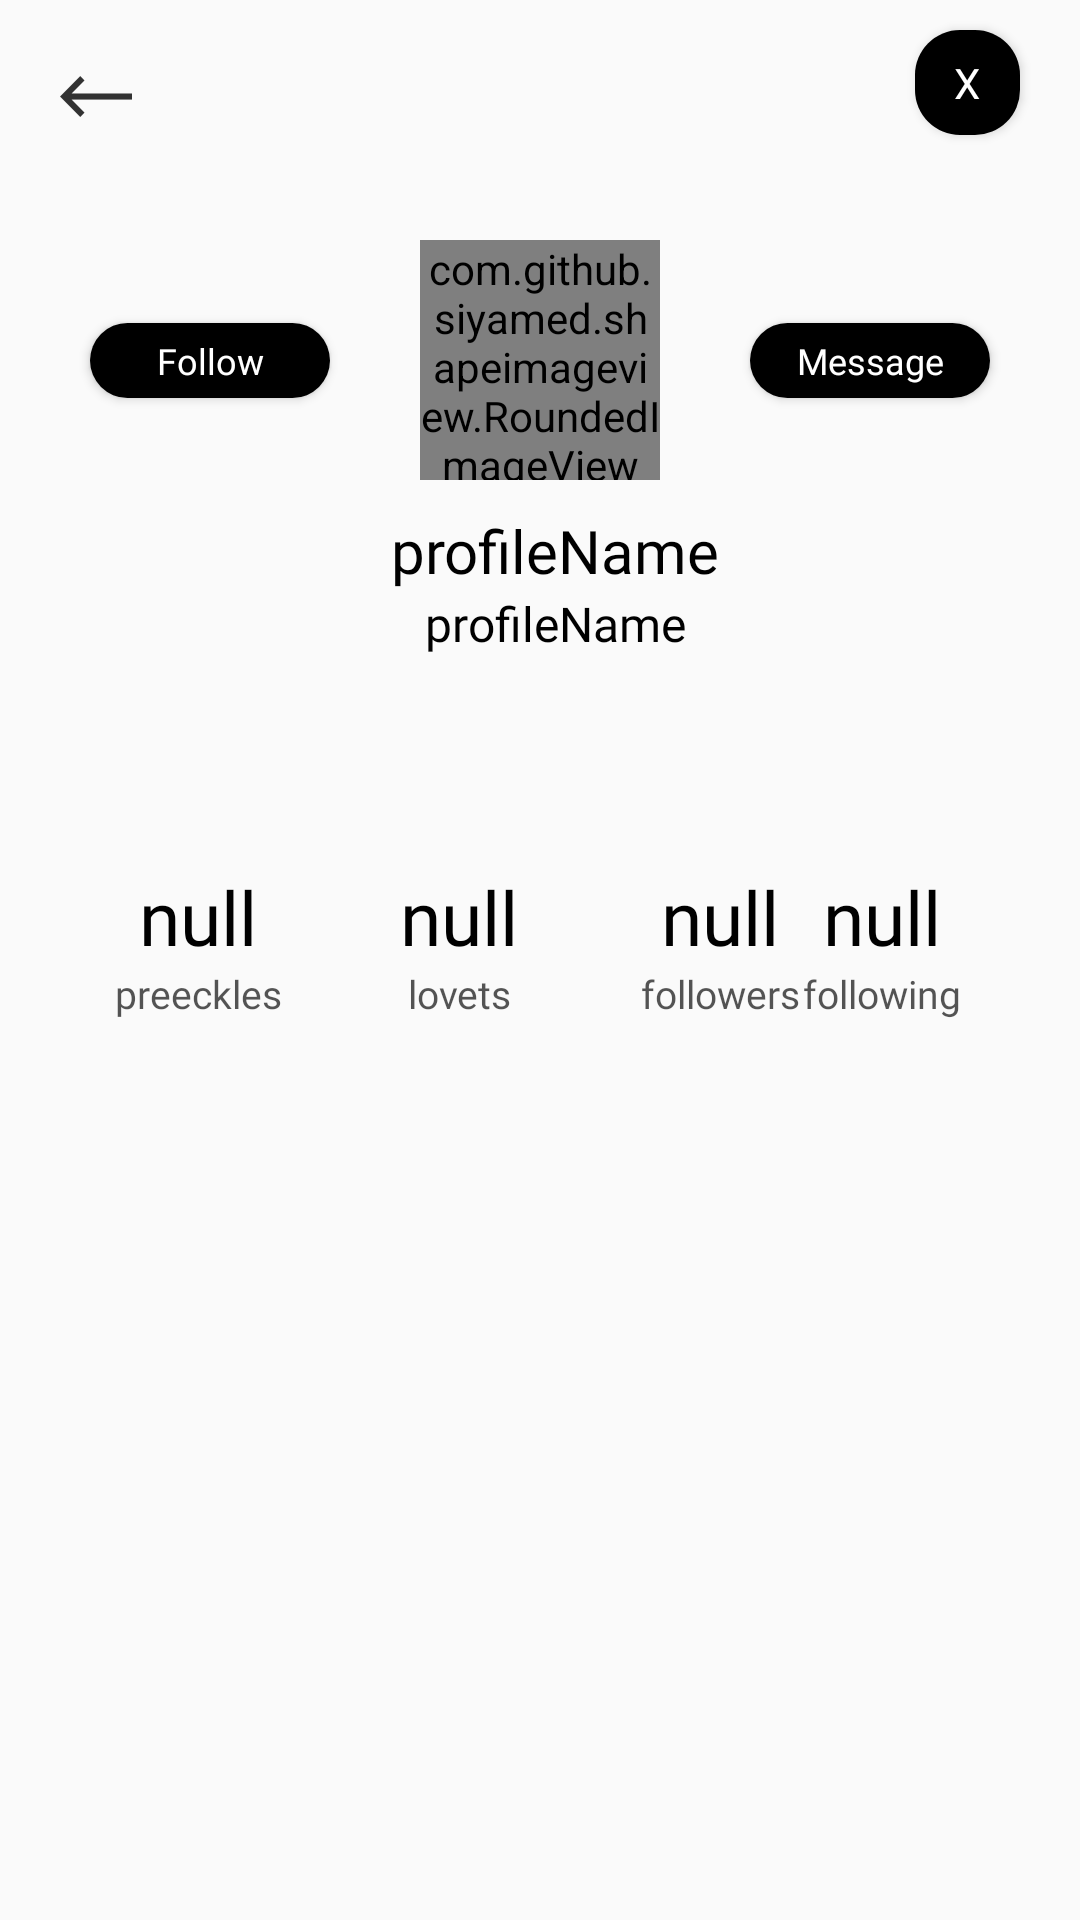

Named icons in this screenshot (1080px x 1920px) and their bounding boxes, detection(x1, y1, x2, y2):
arrow back: detection(60, 76, 132, 117)
